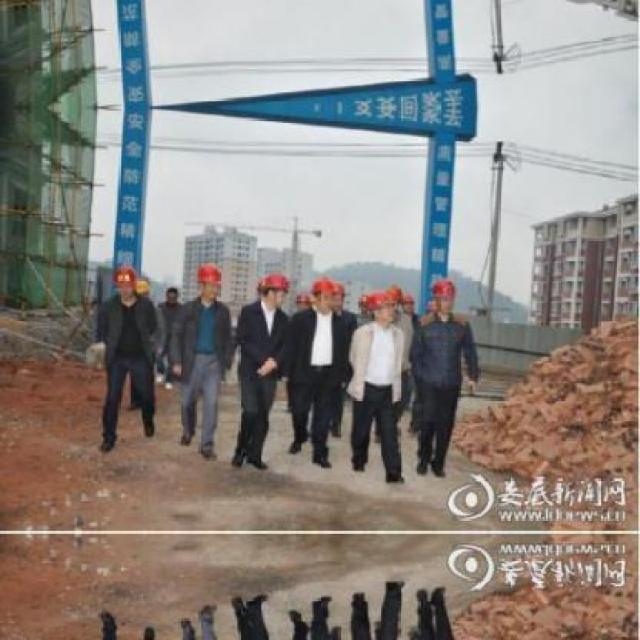helmet: (254, 268, 291, 308), (194, 258, 223, 302), (108, 260, 135, 300), (432, 273, 454, 318), (366, 287, 394, 322), (312, 269, 334, 309), (333, 278, 350, 313), (402, 288, 416, 312)
